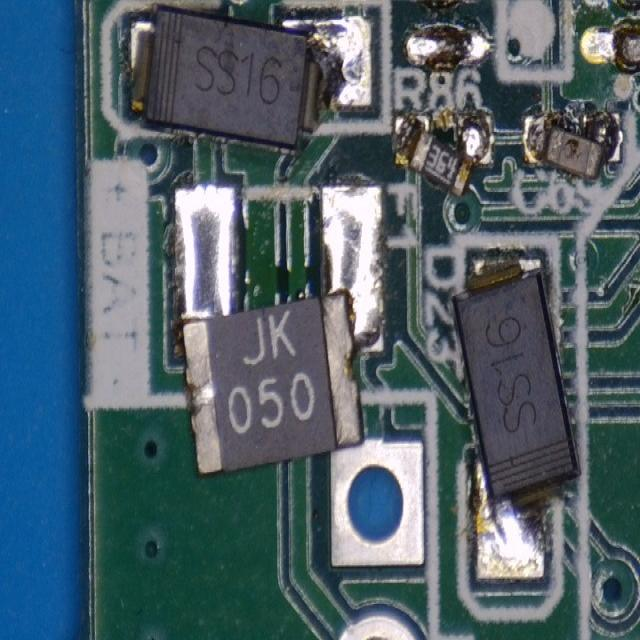Incorrect_installation: (171, 183, 386, 479), (450, 257, 582, 586), (123, 4, 379, 153), (391, 110, 496, 200), (522, 111, 622, 182)
Short_circuit: (317, 182, 426, 569)
